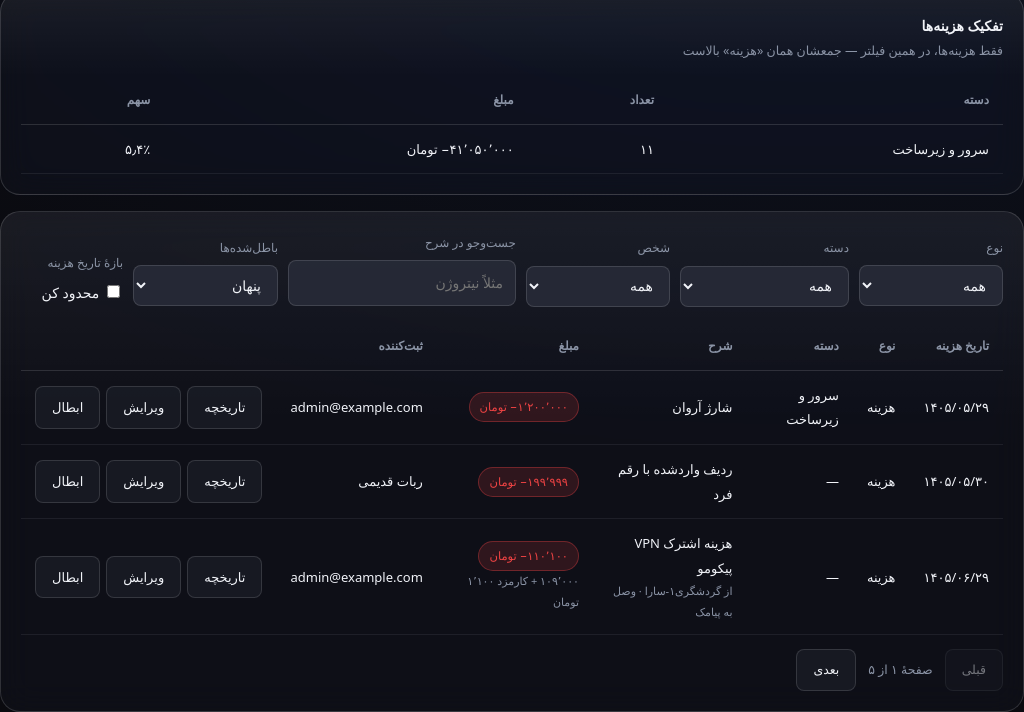
it: an amount the operator did not touch › refuses to save a restated amount that is still fractional
(page scrolled)
Expected: the text "ردیف واردشده با رقم فرد" is shown, top-left (593, 444), bottom-right (746, 519)
Step 1. Click the button "ویرایش" in the row of "۱۴۰۵/۰۵/۳۰" → (144, 482), box top-left (106, 460), bottom-right (181, 503)
(page scrolled)
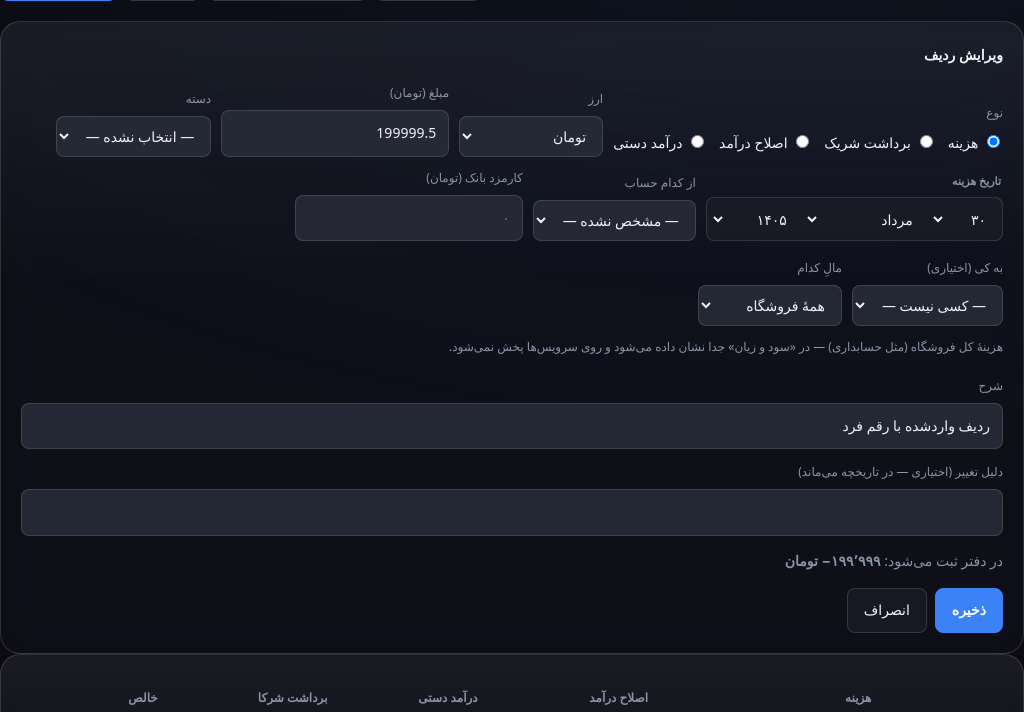
Step 2. Replace the text in the field labelled "مبلغ (تومان)" with "199999.7" → (335, 133), box top-left (221, 110), bottom-right (449, 157)
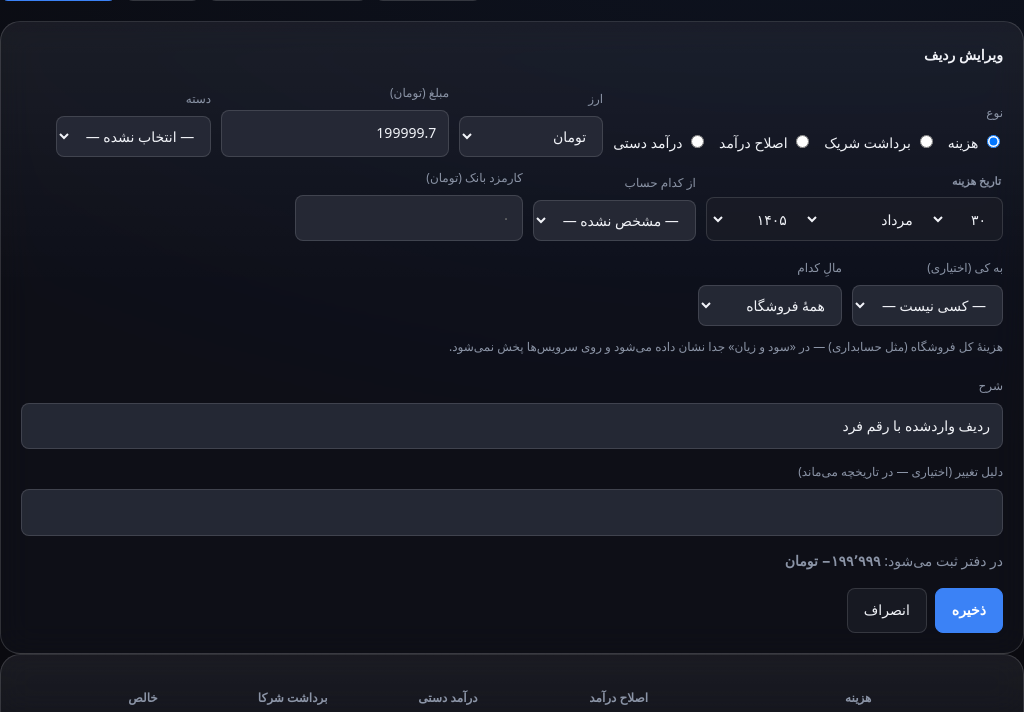
Step 3. Click the button "ذخیره" → (969, 610), box top-left (935, 588), bottom-right (1003, 633)
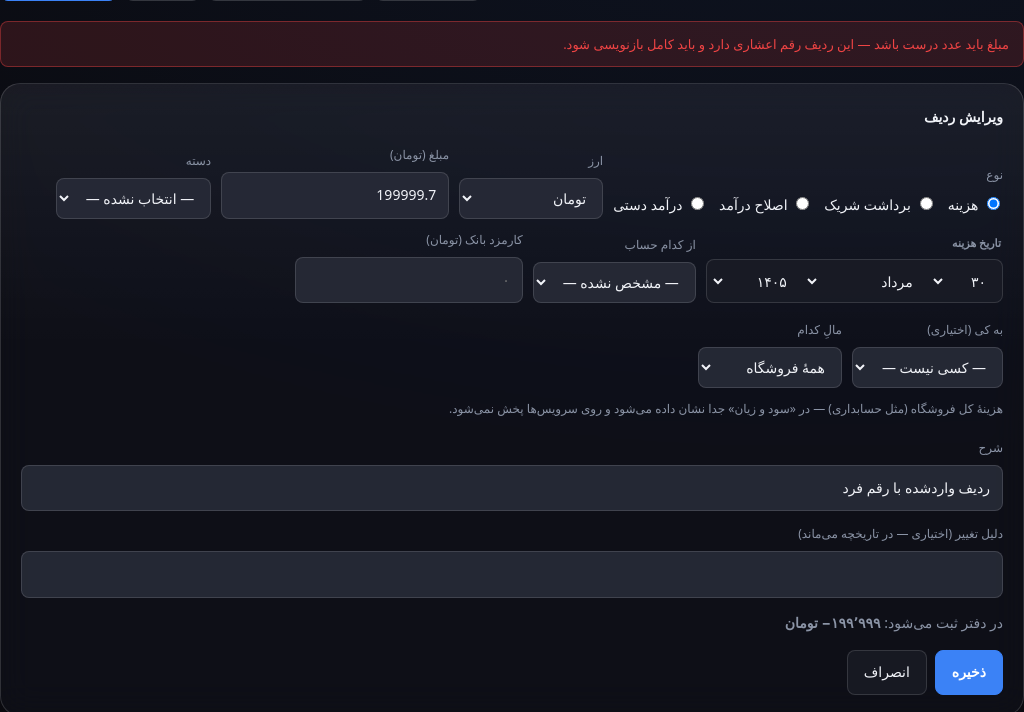
Result: the text "رقم اعشاری" is shown at top-left (563, 35), bottom-right (1009, 53)
